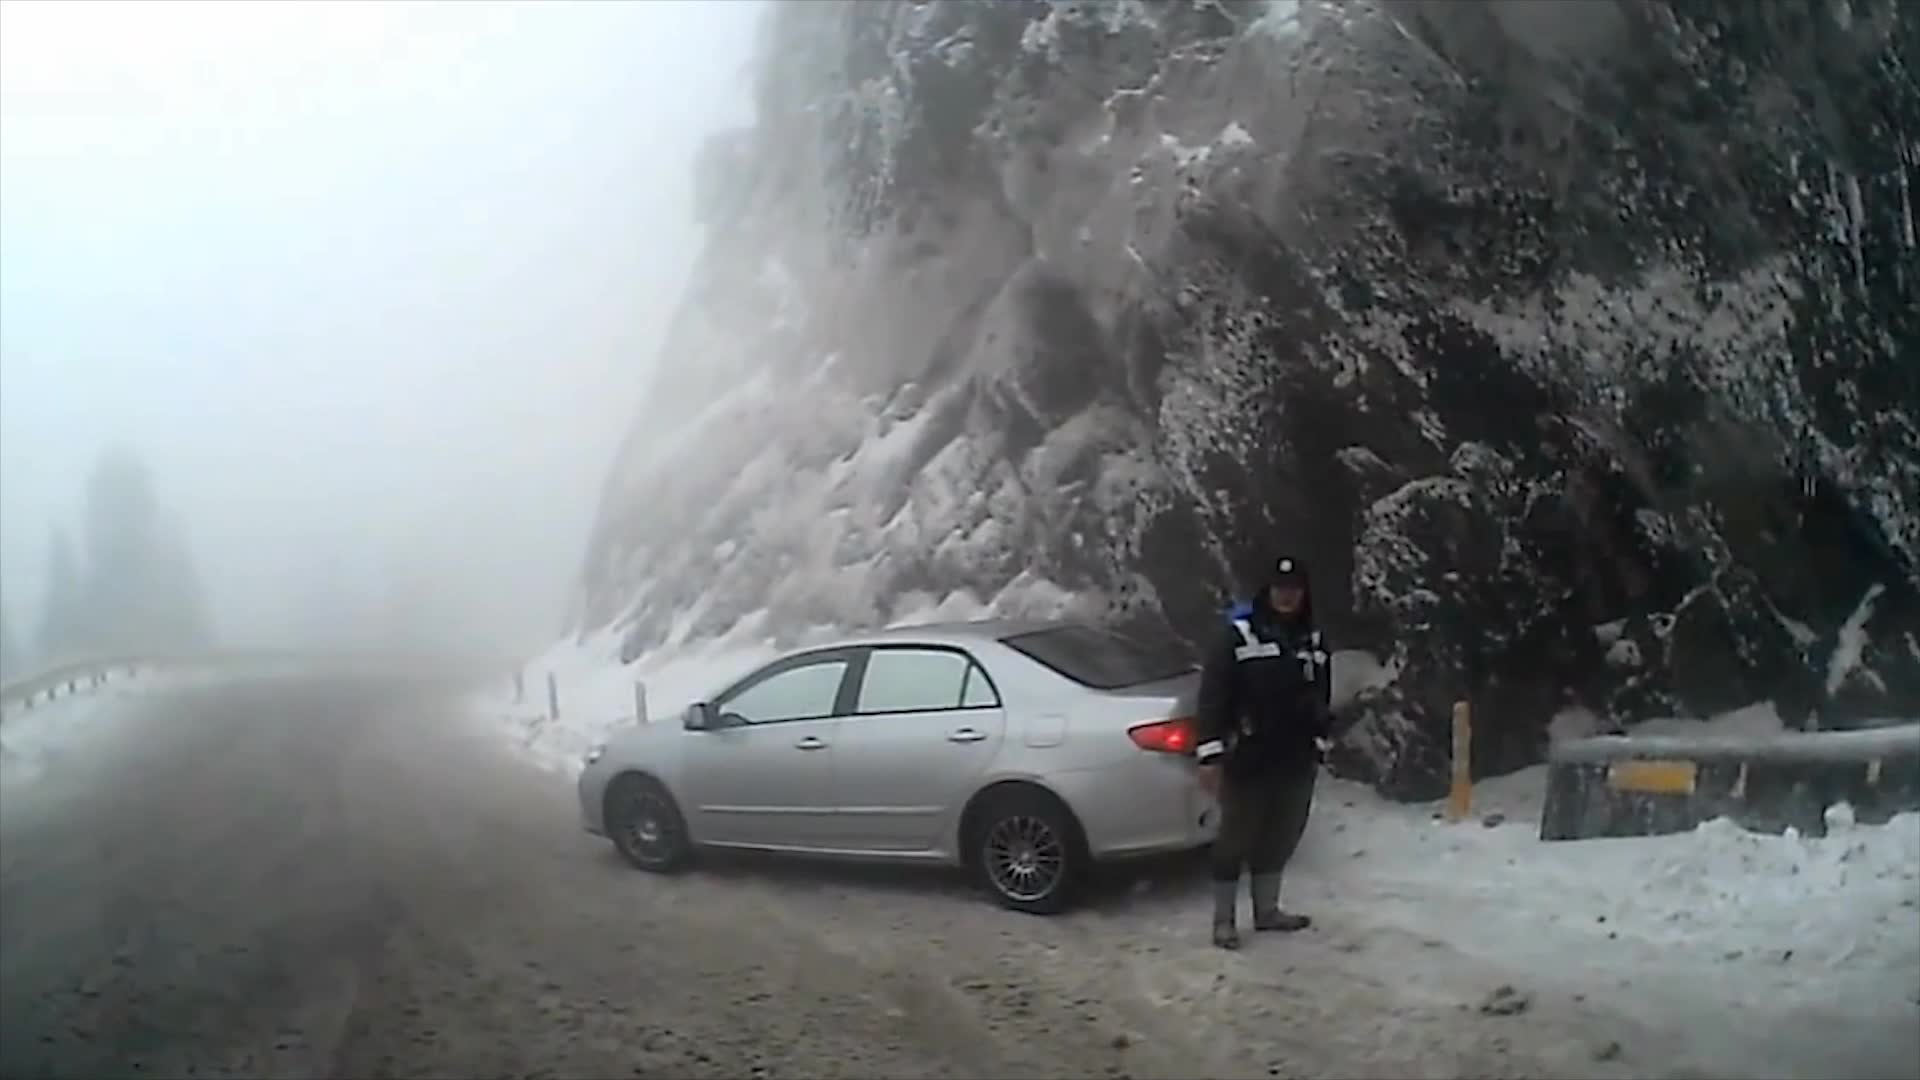pedestrian: (1189, 555, 1336, 956)
vehicle: (573, 619, 1294, 918)
